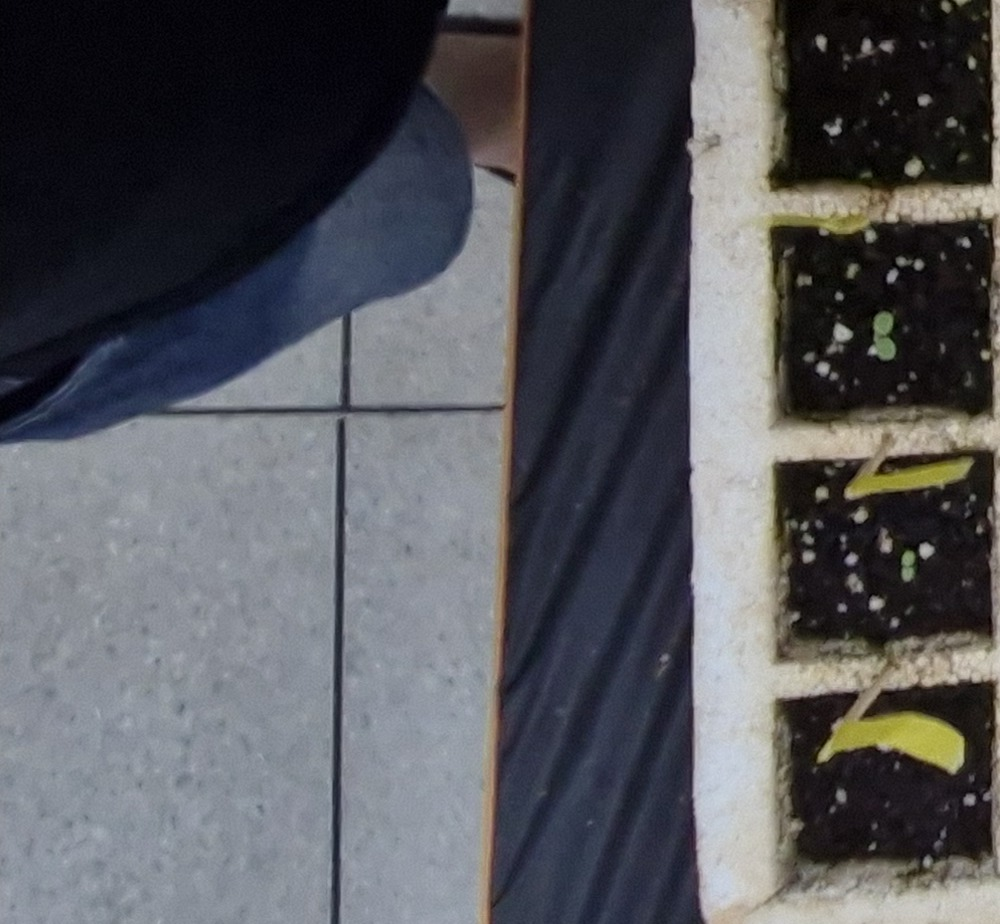Folha: (400, 851, 414, 864), (397, 863, 410, 873)
Germinacao: (397, 851, 416, 873)
